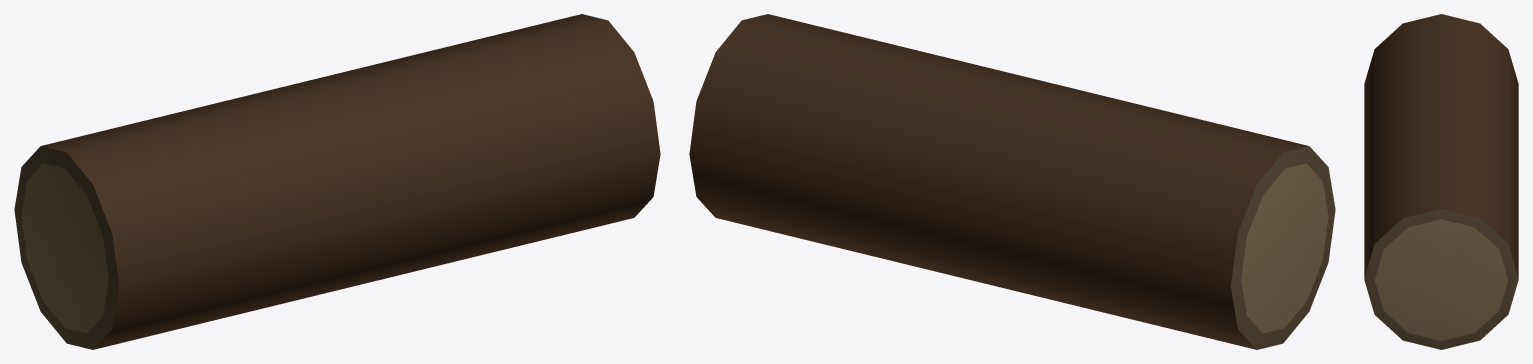
File: trees-dead-trees-wood-cut-log_v1.glb
The picture shows the model from 3 angles, left to right: view 1: azimuth 30°, elevation 25°; view 2: azimuth 150°, elevation 25°; view 3: azimuth 270°, elevation 25°; orthographic projection. The views are drawn at different scales.
Parts seen in each view (by area): view 1: Cut Log_v1; view 2: Cut Log_v1; view 3: Cut Log_v1.
Boxes of the visible parts, <box> form: Cut Log_v1: <box>14,14,660,349</box>; Cut Log_v1: <box>689,14,1335,349</box>; Cut Log_v1: <box>1364,14,1518,349</box>.
Size of the model in its own units: 1.5 by 0.503 by 0.4997.
